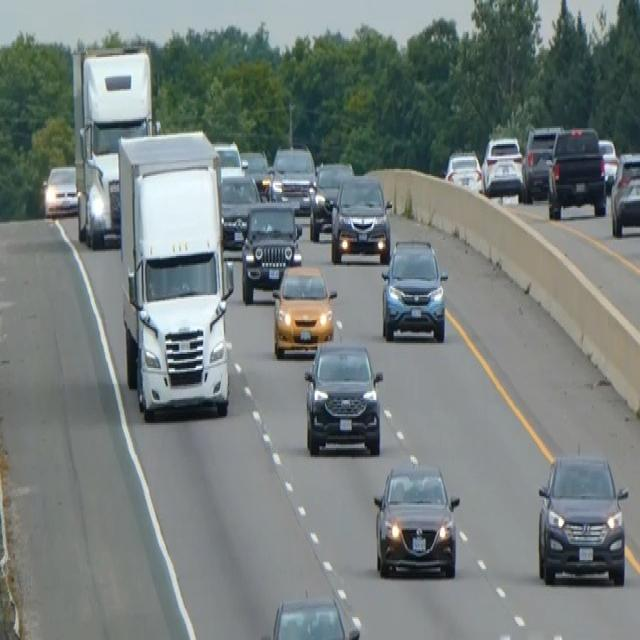car: (536, 449, 628, 586), (372, 462, 460, 578), (303, 338, 383, 455), (380, 236, 448, 342), (240, 199, 302, 302), (271, 262, 337, 358), (547, 124, 607, 218), (330, 173, 392, 263), (259, 590, 361, 638), (219, 165, 261, 251), (309, 160, 354, 240), (269, 142, 316, 214), (521, 124, 562, 201), (481, 135, 524, 197), (610, 150, 639, 236), (43, 163, 78, 217), (444, 148, 483, 194), (238, 148, 271, 199), (597, 137, 618, 190), (212, 139, 241, 174)
lorry: (116, 128, 234, 421)
